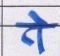e_matra: (28, 10, 47, 23)
